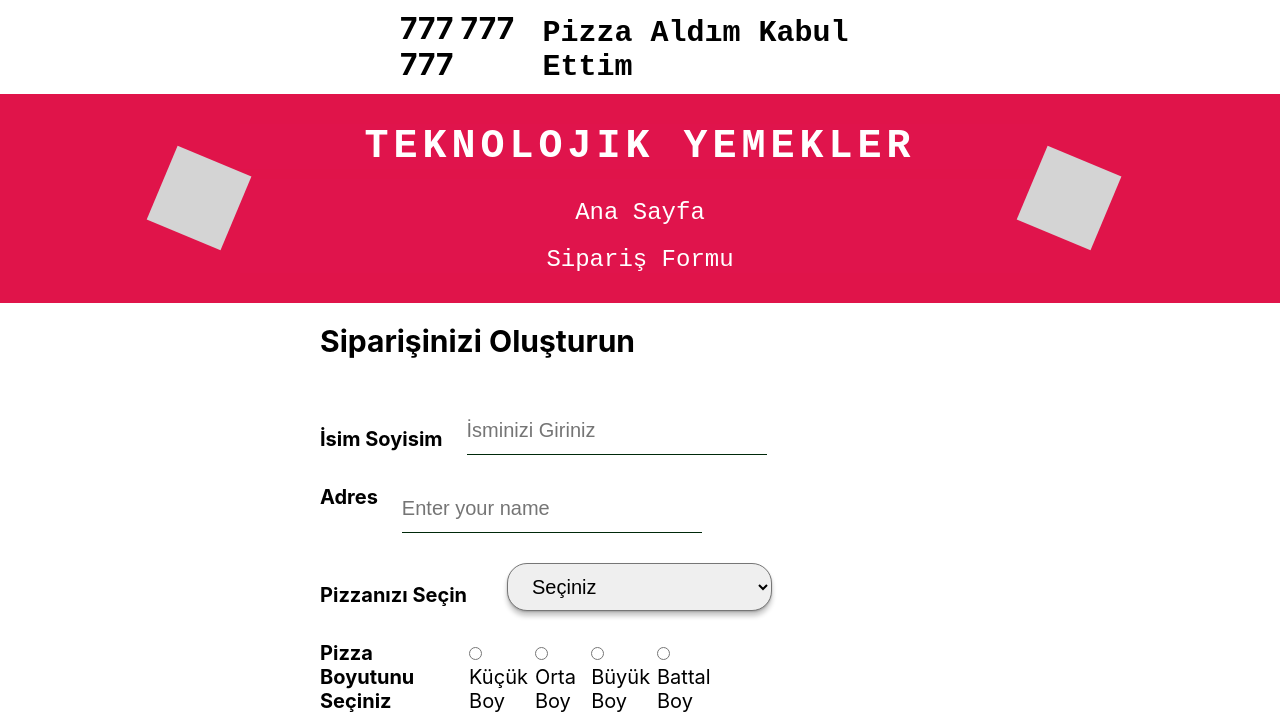
Test: Select False Form Control › Form Name Control
This screenshot has width=1280, height=714.
In the field with id "name-input": coordinates (617, 431) [467,407,767,455], type "F"
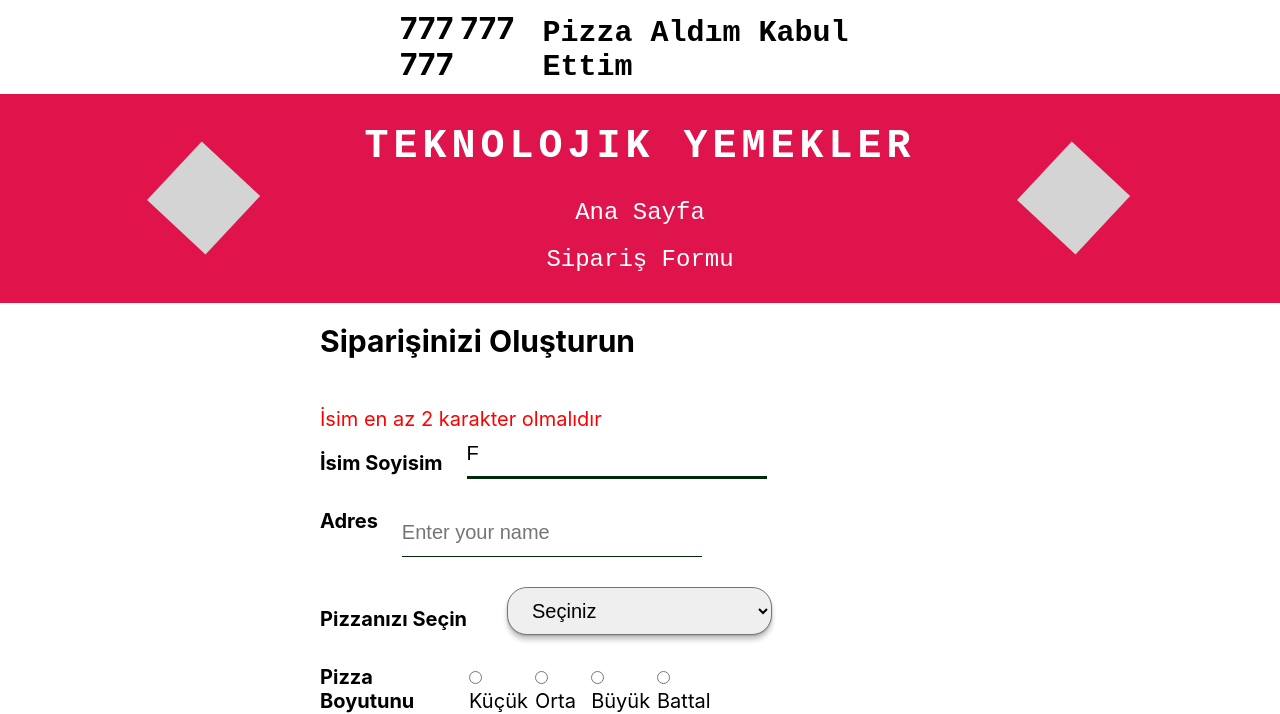
Expected: the text with id "errName" reads "İsim en az 2 karakter olmalıdır", [320,407,602,431]
